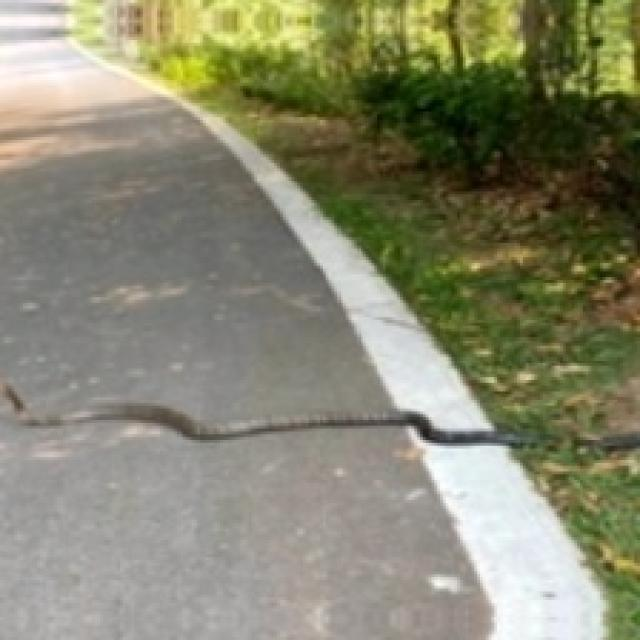king cobra: (0, 373, 640, 453)
